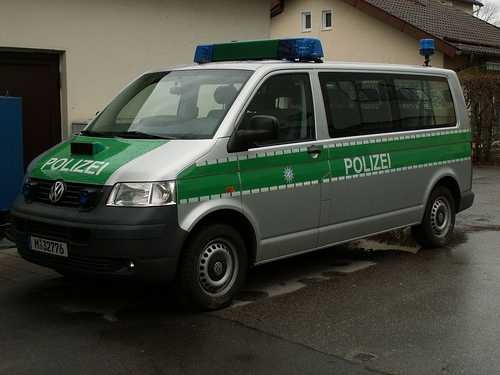Police Car: (23, 42, 475, 285)
